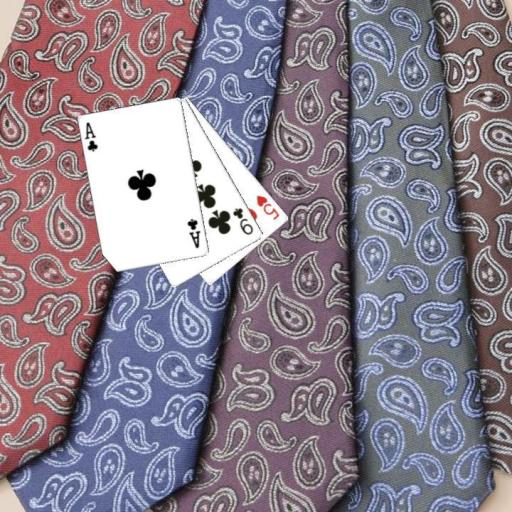5H: (253, 192, 281, 222)
9C: (230, 205, 255, 236)
AC: (184, 216, 202, 250), (82, 120, 100, 154)
